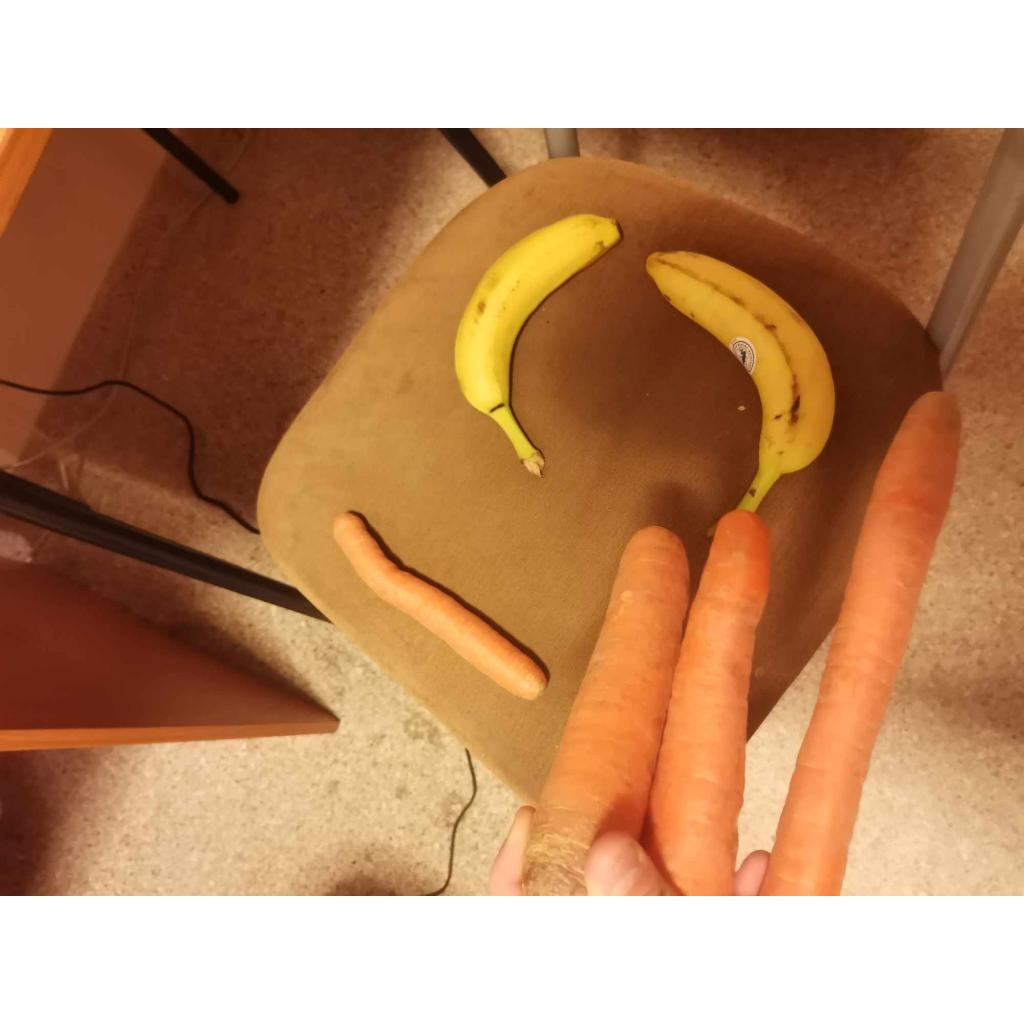banana: (646, 252, 834, 511), (454, 214, 620, 474)
carrot: (762, 392, 960, 894), (524, 528, 688, 894), (644, 510, 768, 894), (332, 512, 546, 699)
